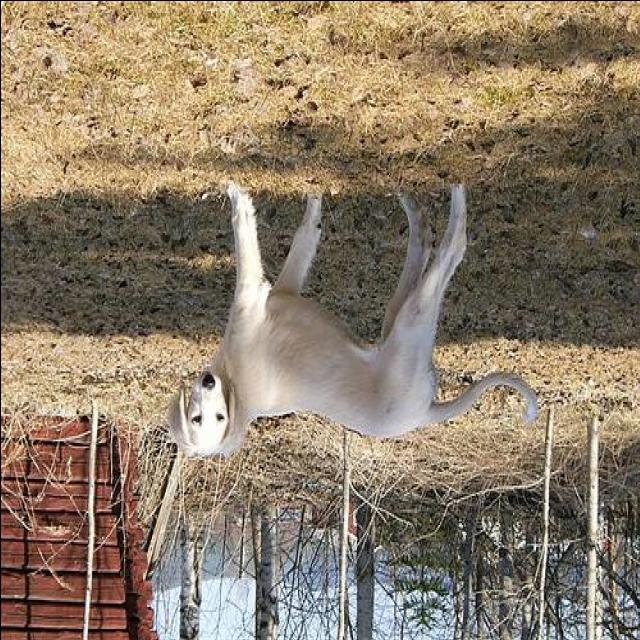saluki: (165, 167, 543, 463)
